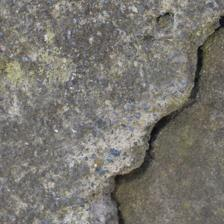Crack: (52, 13, 166, 209)
